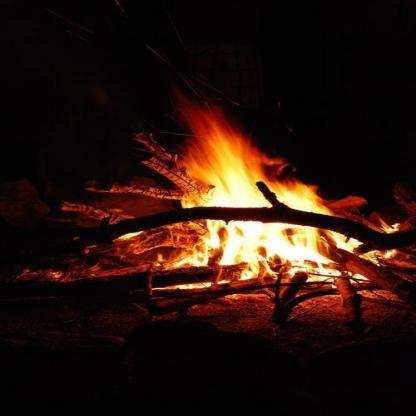fire: (57, 80, 402, 333)
